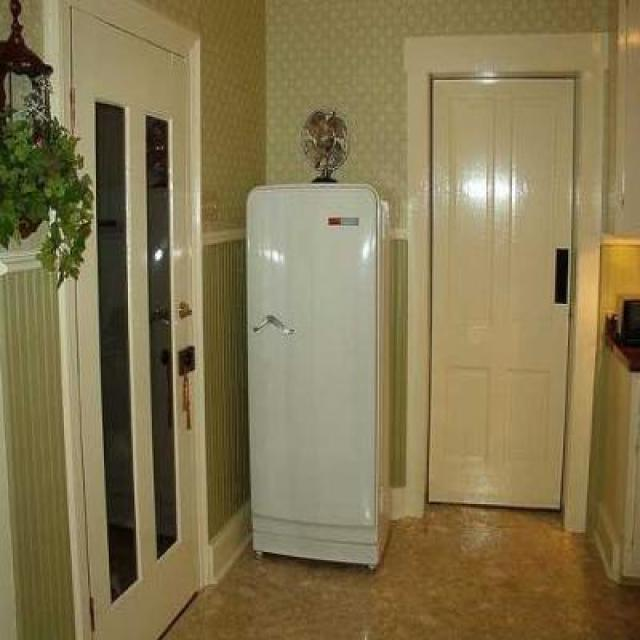refrigerator: (246, 186, 381, 574)
